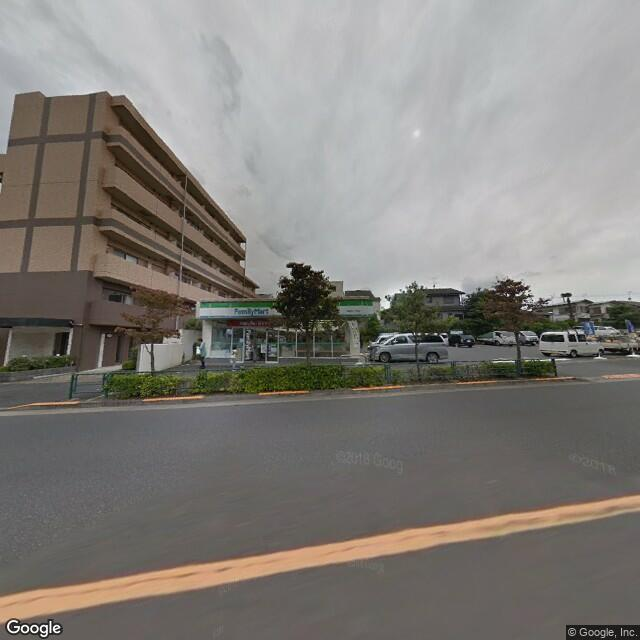family_mart: (193, 300, 280, 320), (334, 298, 375, 317), (240, 330, 253, 362)
